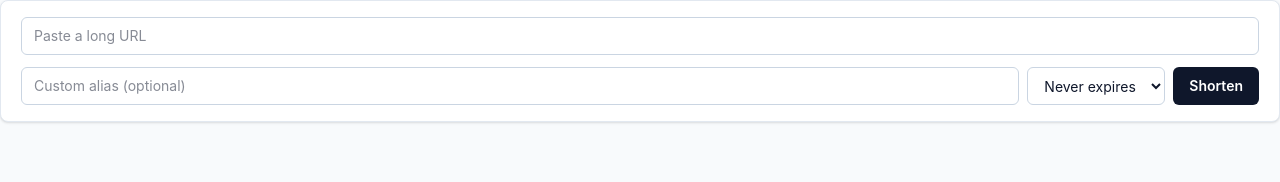
Test: ShortenForm › shortens a valid URL and shows the short link
In the field labelled "long URL": {"x": 640, "y": 36} [21,17,1259,55], type "https://example.com/a-long-path"
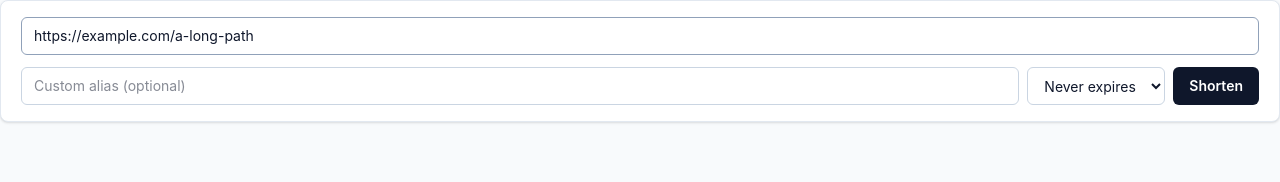
Click the button "Shorten": {"x": 1216, "y": 86} [1173,67,1259,105]
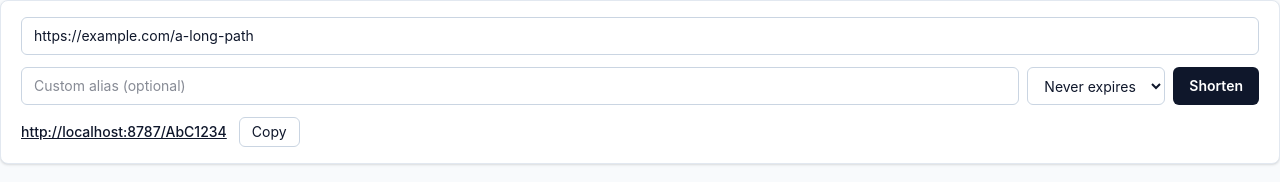
Expected: the link "http://localhost:8787/AbC1234" is shown, [21,122,227,142]
